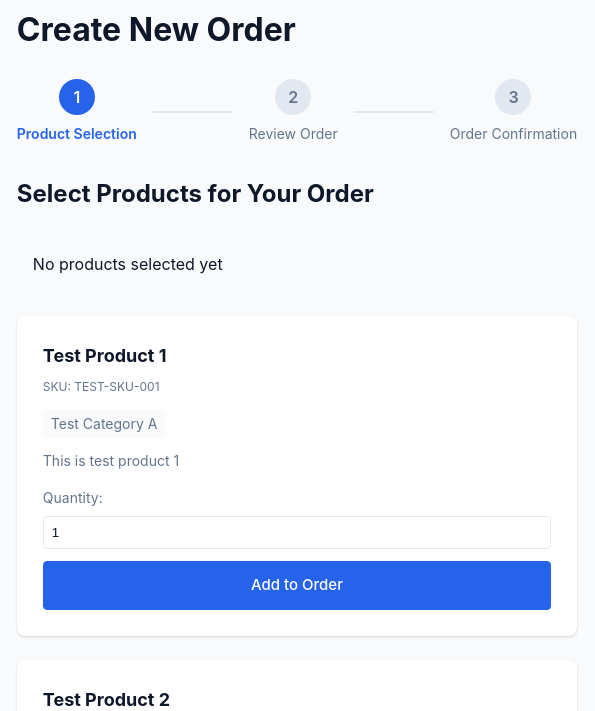
Scenario: OrderCreate › should show error with Common Error Format when order creation fails with ApiError
The image size is (595, 711).
expect the heading "Select Products for Your Order" is shown: met, box [17,179,374,208]
Add first product
Click the button "Add to Order" at (297, 585), box [43,561,551,610]
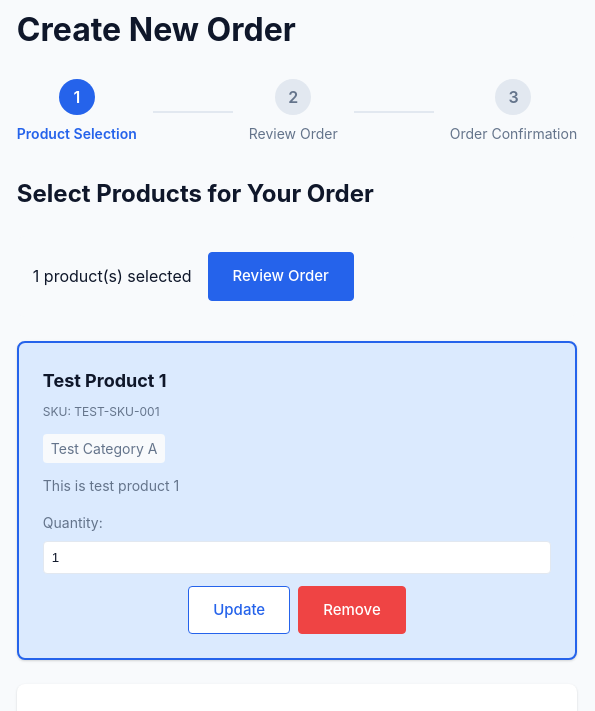
Go to review step
Click the button "Review Order" at (281, 276), box [208,252,354,301]
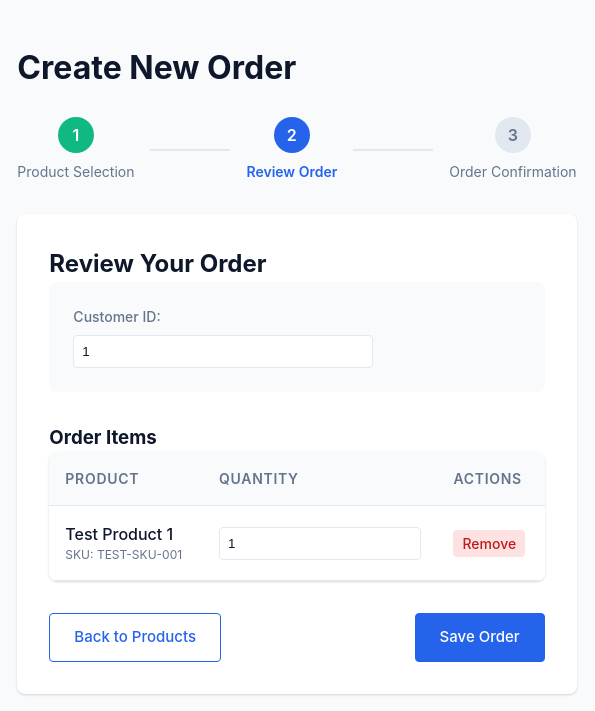
expect the heading "Review Your Order" is shown: met, box [49,249,267,278]
Submit the order
Click the button "Save Order" at (480, 638), box [415,613,545,662]
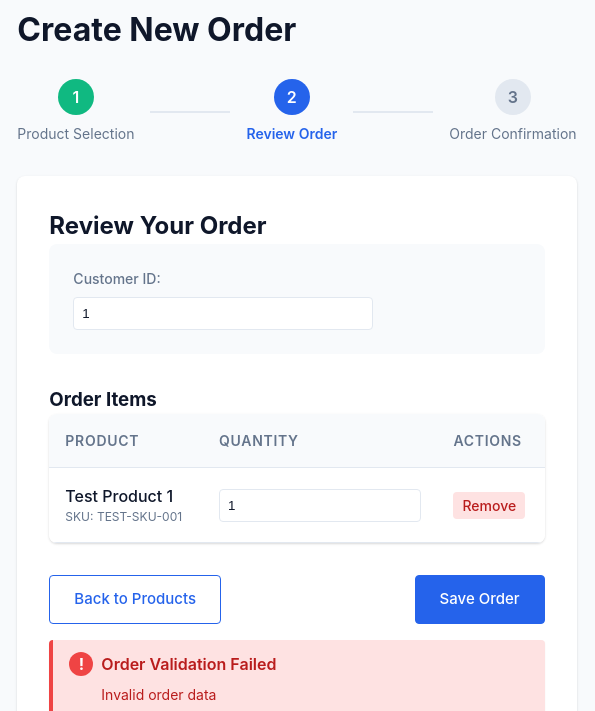
expect the text "Invalid order data" is shown: met, box [101,686,216,703]
expect the heading "Order Validation Failed" is shown: met, box [101,654,276,674]
